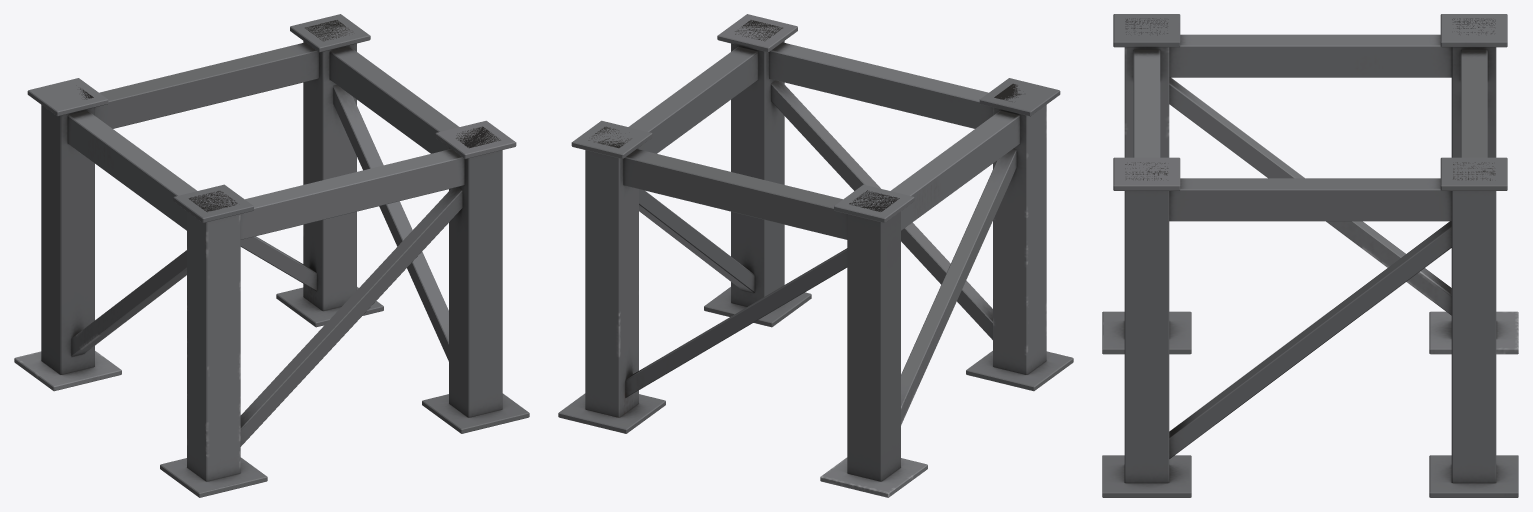
The model's file is nodexeus-set-legs-4.glb.
3 views of the same model, side by side, from view 1: azimuth 30°, elevation 25°; view 2: azimuth 150°, elevation 25°; view 3: azimuth 270°, elevation 25° (orthographic). The views are drawn at different scales.
Parts seen in each view (by area): view 1: set-legs-4; view 2: set-legs-4; view 3: set-legs-4.
Boxes of the visible parts, x1,y1,x2,y2 form: set-legs-4: [14, 14, 529, 497]; set-legs-4: [558, 14, 1073, 497]; set-legs-4: [1102, 14, 1518, 497].
Bounding box in the file's own units: 6.82 × 5.4 × 6.62.
1 material, 1 textured.
